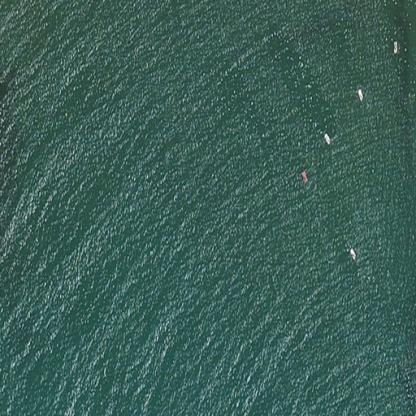ship: (385, 35, 403, 57), (317, 128, 335, 147), (296, 165, 313, 184), (344, 243, 360, 263), (352, 84, 367, 104)
